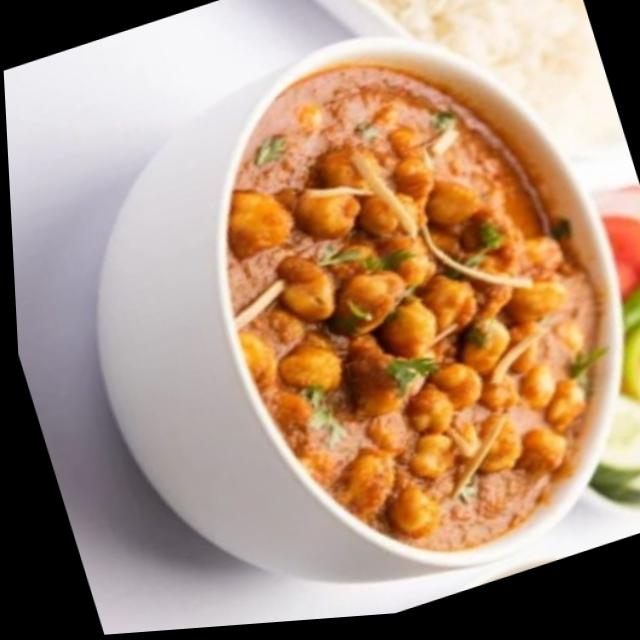SUNDAL: (229, 79, 599, 546)
